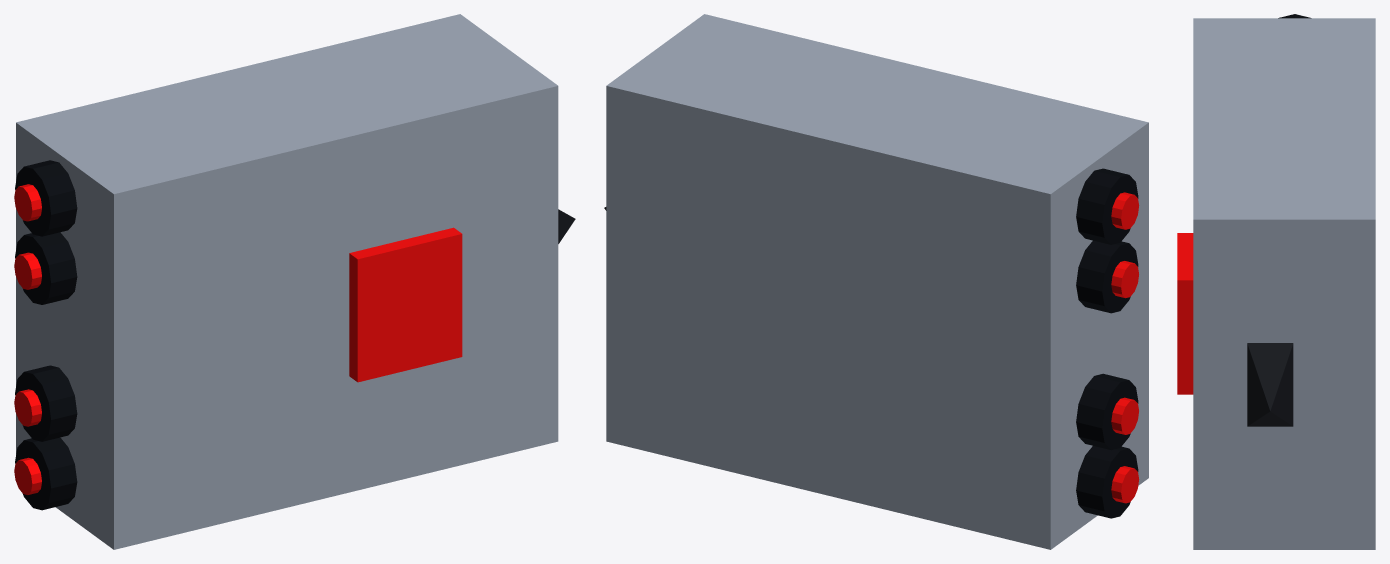
Rendered from boss.obj.
3 renders of one model, left to right at view 1: azimuth 30°, elevation 25°; view 2: azimuth 150°, elevation 25°; view 3: azimuth 270°, elevation 25°, orthographic. The views are drawn at different scales.
Parts seen in each view (by area): view 1: boss; view 2: boss; view 3: boss.
Boxes of the visible parts, x1,y1,x2,y2 form: boss: [14, 14, 575, 549]; boss: [604, 14, 1148, 549]; boss: [1177, 14, 1375, 549].
Bounding box in the file's own units: 8.25 × 5.2 × 2.82.
